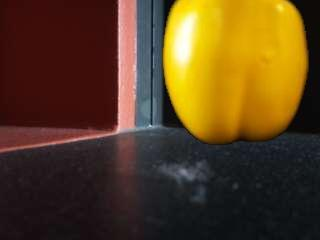Capsicum: (161, 0, 308, 146)
